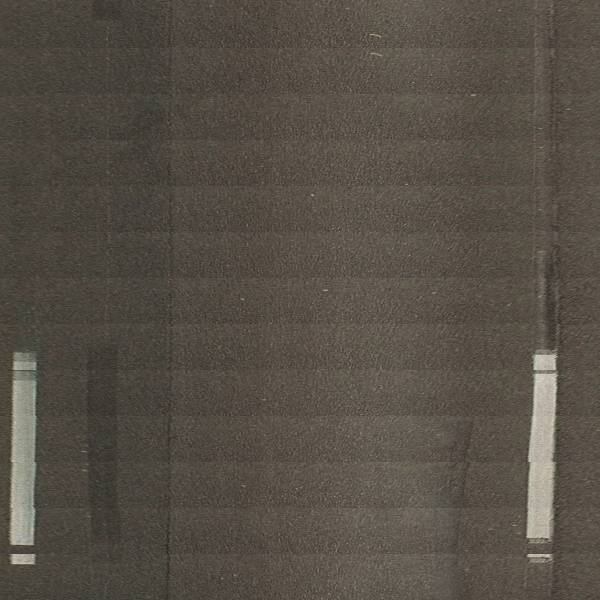road_damage: (162, 37, 177, 583)
